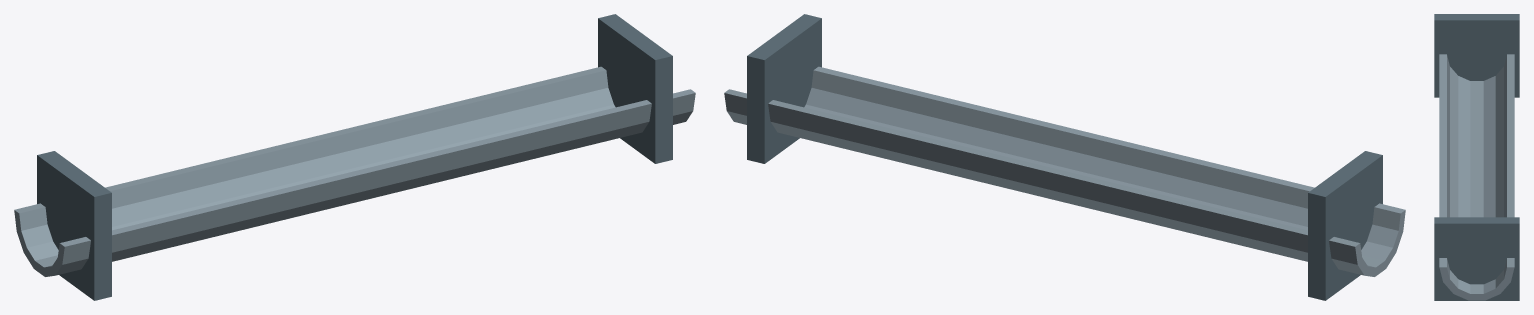
File: gutter-piece.glb
3 views of the same model, side by side, from view 1: azimuth 30°, elevation 25°; view 2: azimuth 150°, elevation 25°; view 3: azimuth 270°, elevation 25° (orthographic). The views are drawn at different scales.
Visible parts, largest first — view 1: gutter-piece; view 2: gutter-piece; view 3: gutter-piece.
Boxes of the visible parts, x1,y1,x2,y2 form: gutter-piece: [14, 14, 695, 300]; gutter-piece: [724, 14, 1405, 300]; gutter-piece: [1434, 14, 1519, 300].
Size of the model in its own units: 1.08 by 0.1699 by 0.1699.
